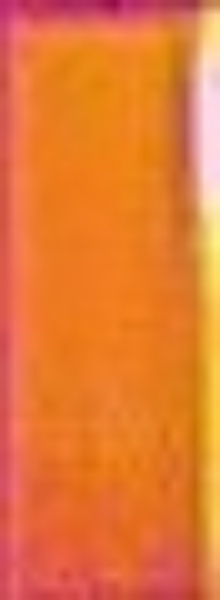Diode: (182, 11, 220, 294)
